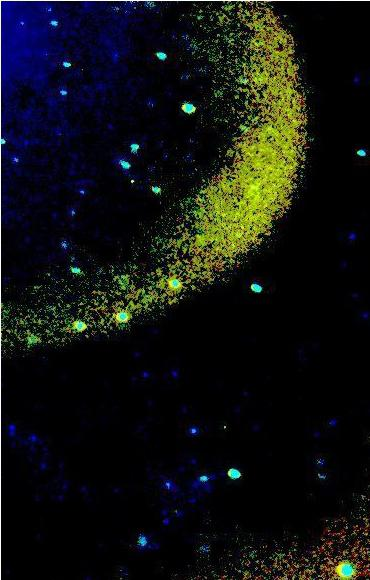star: (210, 409, 240, 439)
